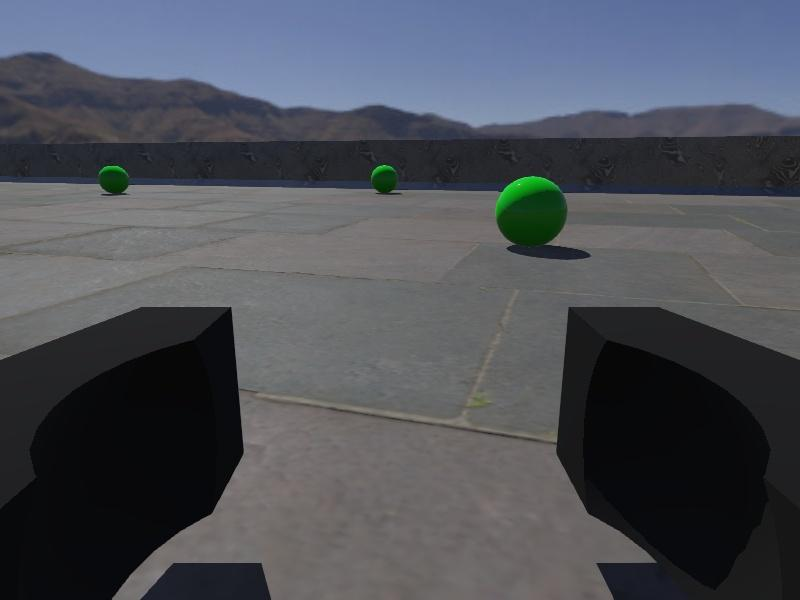green ball: (494, 176, 568, 248), (98, 165, 130, 195), (371, 164, 398, 195)
